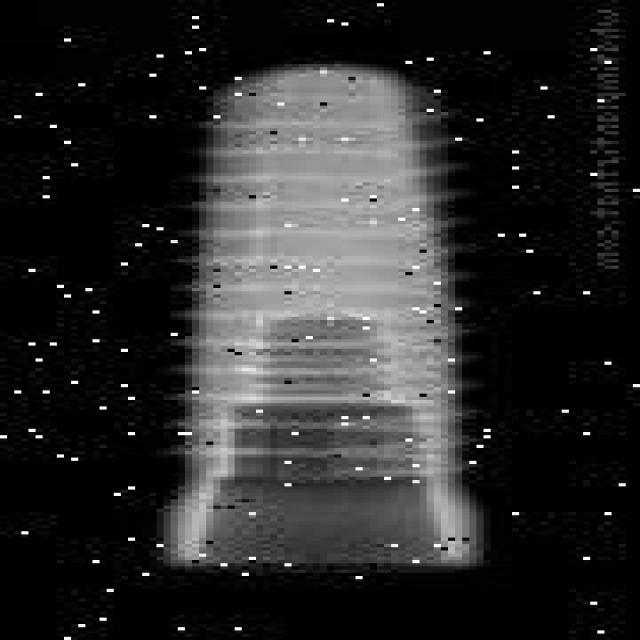Root canal obturation: (147, 52, 491, 570)
